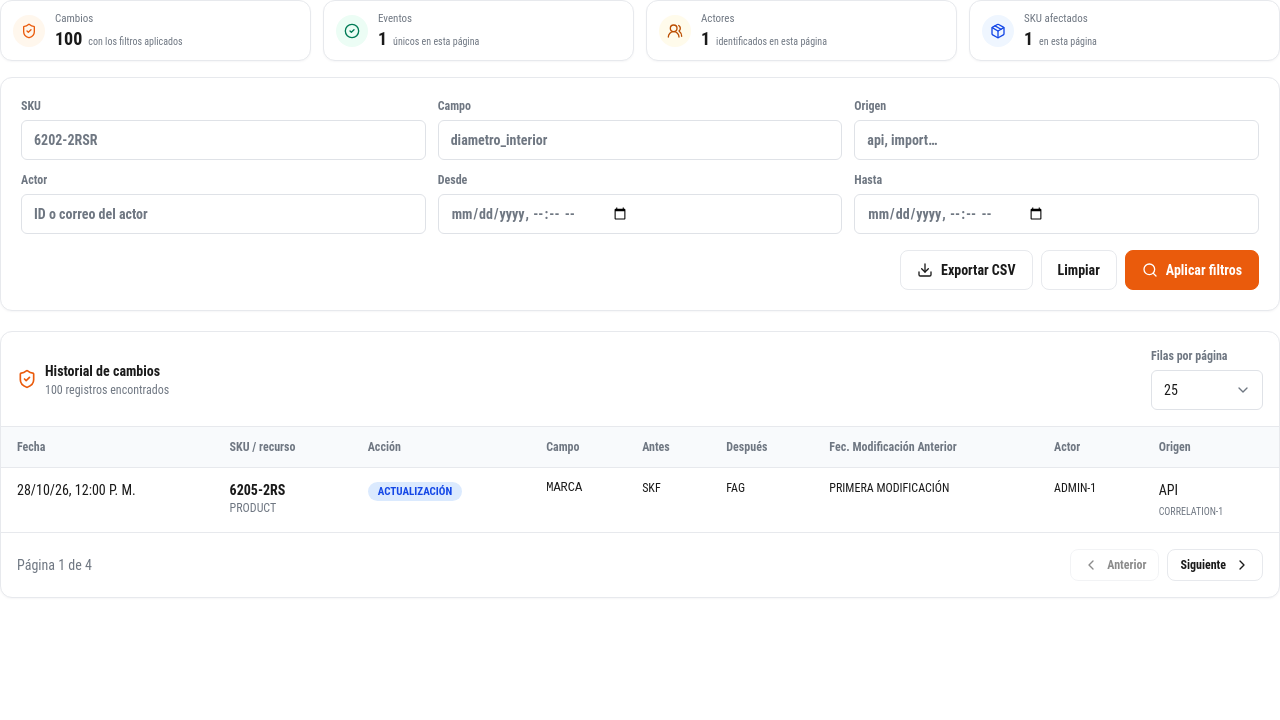
AuditWorkspace › updates the totals and page statistics using the existing filtered request
Expected: the heading "Historial de cambios" is shown, [45,360,169,382]
Type "NO-EXISTE" into the field labelled "SKU" at {"x": 223, "y": 140}, box [21,120,426,160]
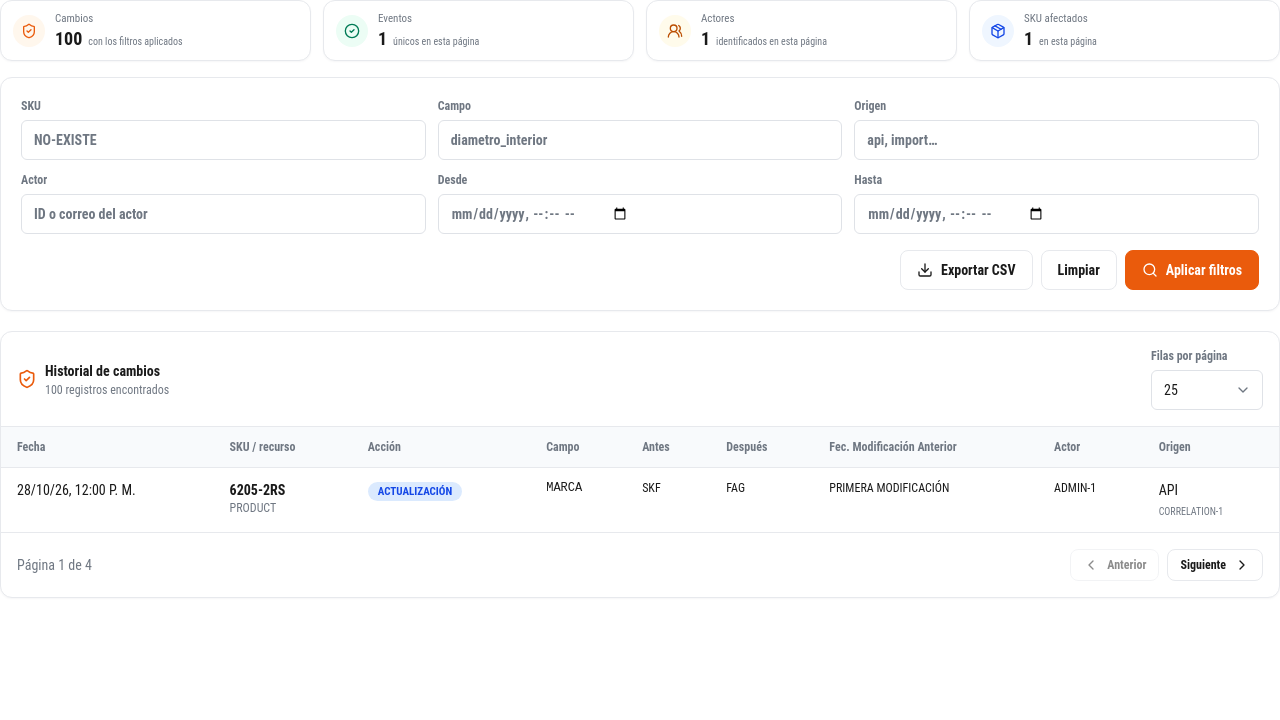
Click the button "Aplicar filtros" at {"x": 1192, "y": 270}, box [1125,250,1259,290]
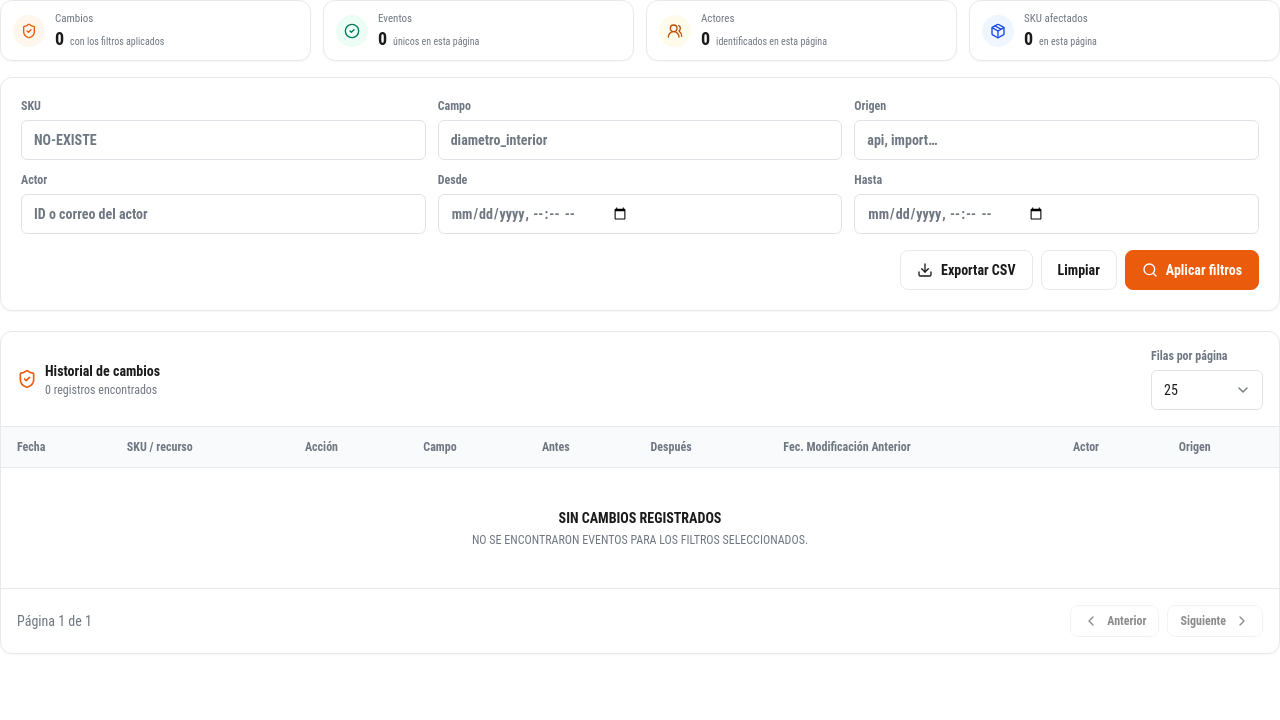
Now the heading "Sin cambios registrados" is shown, box [559,510,721,526]
Now the text "0" below "SKU afectados" is shown, box [1024,28,1033,48]
